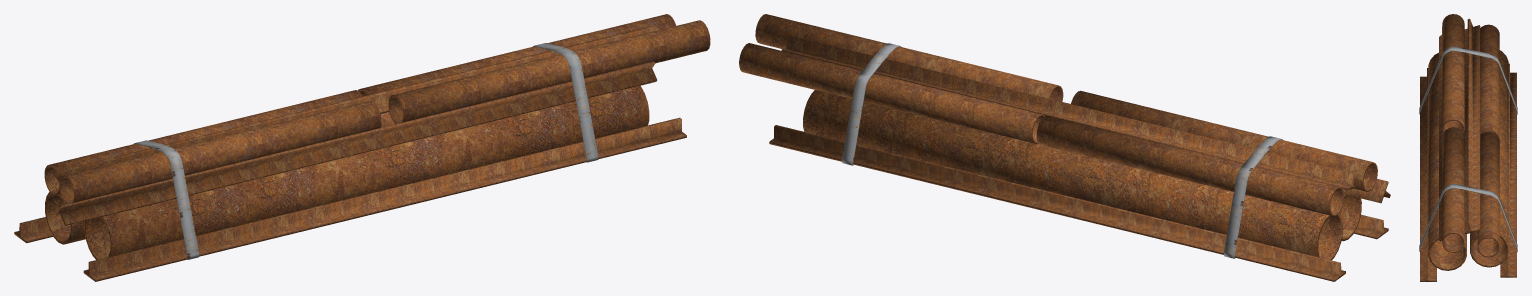
Rendered from pipes.obj.
3 renders of one model, left to right at view 1: azimuth 30°, elevation 25°; view 2: azimuth 150°, elevation 25°; view 3: azimuth 270°, elevation 25°, orthographic. The views are drawn at different scales.
Parts seen in each view (by area): view 1: pipes.obj; view 2: pipes.obj; view 3: pipes.obj.
Boxes of the visible parts, x1,y1,x2,y2 form: pipes.obj: (14,14,710,281); pipes.obj: (739,14,1390,281); pipes.obj: (1419,14,1517,281).
Size of the model in its own units: 6.44 by 0.8667 by 1.2.
1 material, 1 textured.
